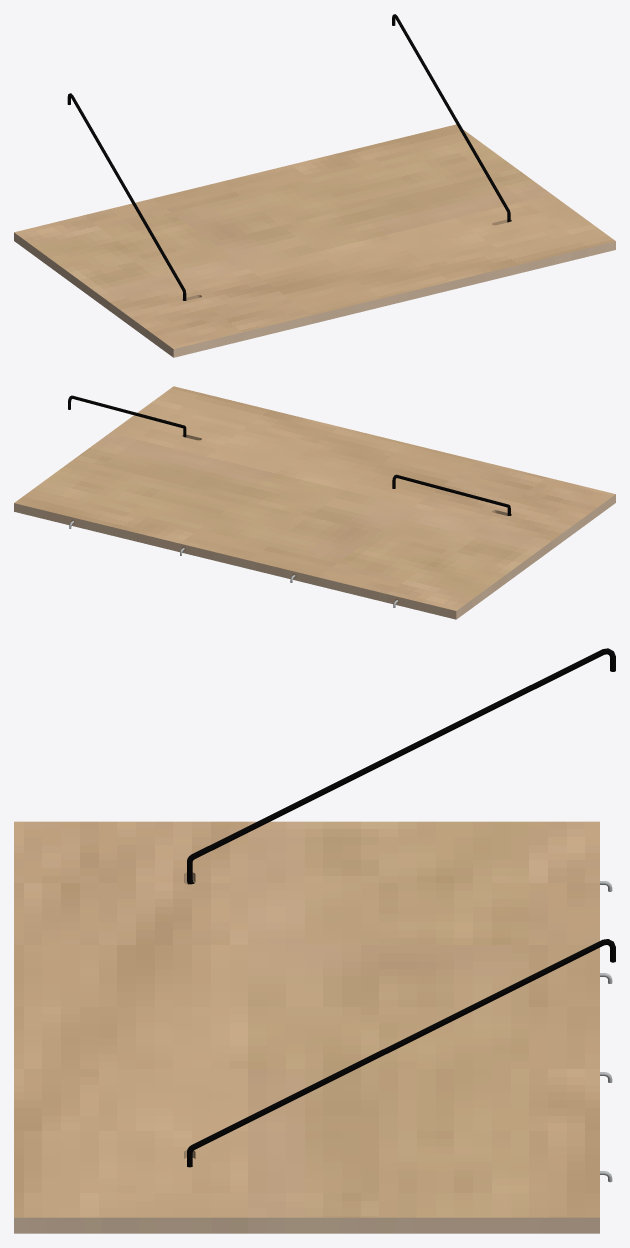
Rendered from desk80x50.glb.
3 renders of one model, top to bottom at view 1: azimuth 30°, elevation 25°; view 2: azimuth 150°, elevation 25°; view 3: azimuth 270°, elevation 25°, orthographic. The views are drawn at different scales.
Parts seen in each view (by area): view 1: Geom3D (×4); view 2: Geom3D (×4); view 3: Geom3D (×4).
Part boxes in pixels (left/top/right/bottom): Geom3D (×4): left=14, top=14, right=615, bottom=357; Geom3D (×4): left=14, top=386, right=615, bottom=619; Geom3D (×4): left=14, top=648, right=615, bottom=1233.
Bounding box in the file's own units: 0.8 × 0.2281 × 0.5137.
Materials: 4 (3 with a texture image).
